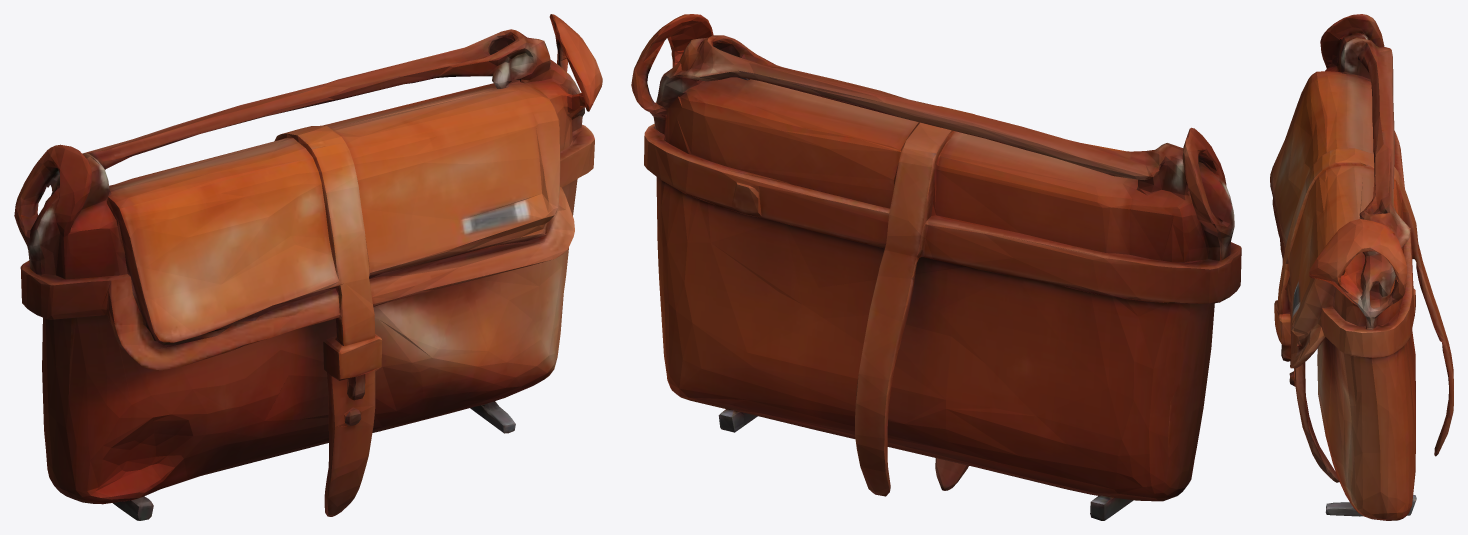
3 renders of one model, left to right at view 1: azimuth 30°, elevation 25°; view 2: azimuth 150°, elevation 25°; view 3: azimuth 270°, elevation 25°, orthographic. The views are drawn at different scales.
Visible parts, largest first — view 1: geometry_0; view 2: geometry_0; view 3: geometry_0.
Boxes of the visible parts, x1,y1,x2,y2 form: geometry_0: [14, 14, 602, 520]; geometry_0: [631, 14, 1241, 520]; geometry_0: [1270, 14, 1453, 520].
Bounding box in the file's own units: 0.9979 × 0.7136 × 0.3278.
1 material, 1 textured.
